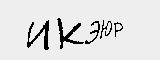И: (23, 15, 51, 54)
К: (54, 16, 83, 49)
Р: (110, 20, 126, 40)
Э: (88, 18, 102, 44)
Ю: (98, 17, 112, 39)
